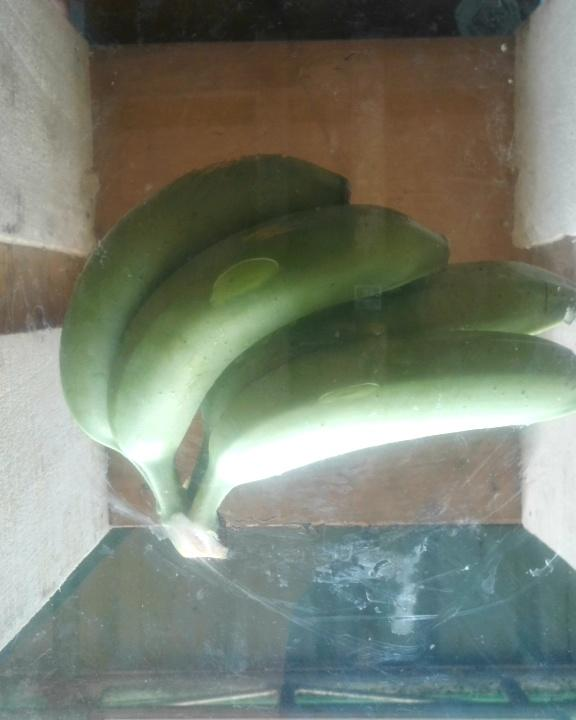SPOT: (56, 138, 576, 566)
